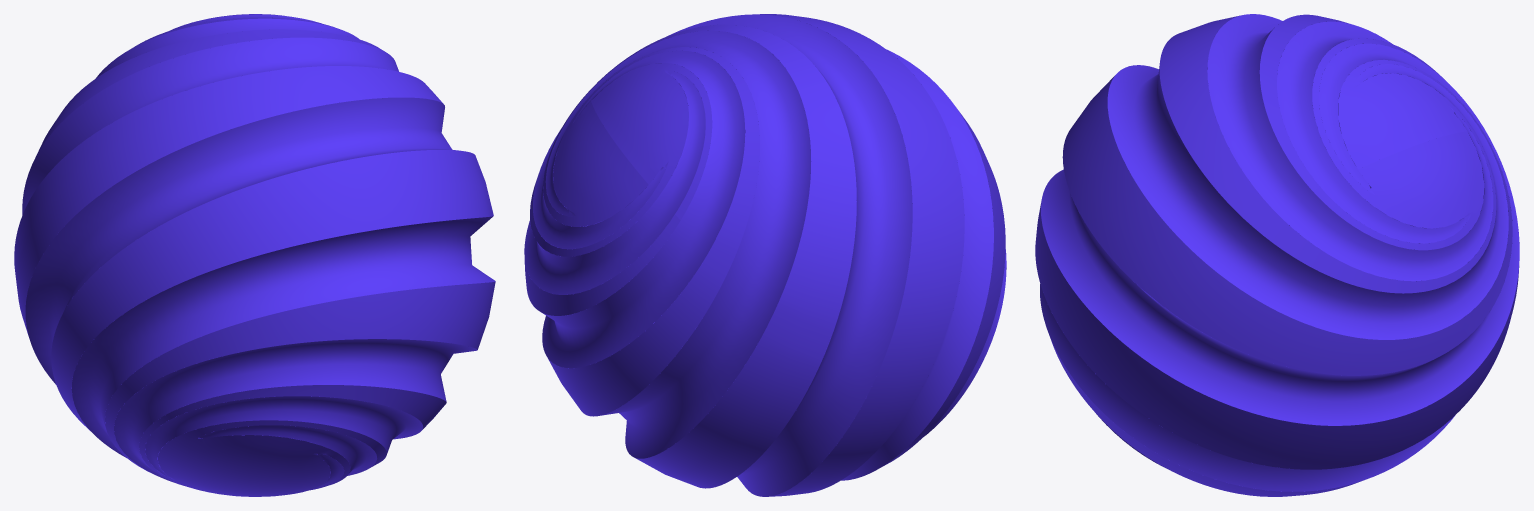
3 views of the same model, side by side, from view 1: azimuth 30°, elevation 25°; view 2: azimuth 150°, elevation 25°; view 3: azimuth 270°, elevation 25° (orthographic).
Visible parts, largest first — view 1: object_004_Retopo; view 2: object_004_Retopo; view 3: object_004_Retopo.
Part boxes in pixels (bbox=[...]): object_004_Retopo: bbox=[14, 14, 495, 496]; object_004_Retopo: bbox=[524, 14, 1006, 496]; object_004_Retopo: bbox=[1035, 14, 1519, 496].
Bounding box in the file's own units: 2.53 × 2.54 × 2.54.
